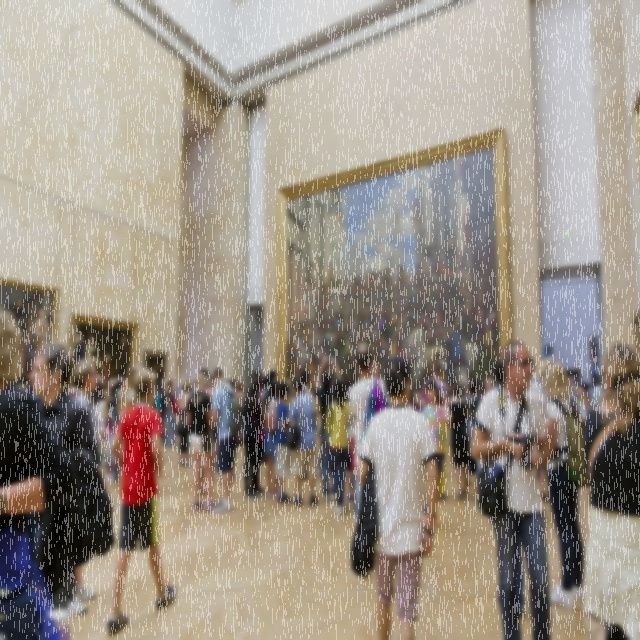pessoa: (286, 152, 498, 372), (0, 302, 82, 640), (350, 352, 443, 640), (469, 339, 554, 639), (104, 360, 182, 640), (576, 338, 640, 639), (28, 342, 104, 570), (534, 352, 592, 614), (65, 356, 106, 614), (347, 344, 390, 524), (516, 380, 545, 620), (208, 366, 244, 516), (419, 376, 454, 528), (184, 370, 220, 513), (314, 353, 344, 505), (286, 374, 320, 508), (323, 376, 352, 517), (8, 288, 52, 380), (116, 363, 140, 507), (448, 381, 476, 502), (96, 357, 122, 482), (241, 374, 266, 502), (462, 372, 493, 473), (570, 366, 603, 446), (274, 378, 294, 506), (197, 366, 214, 496), (264, 378, 280, 500), (319, 366, 335, 473), (344, 386, 358, 502), (420, 359, 450, 409), (178, 377, 194, 467), (349, 422, 362, 525), (70, 326, 112, 356), (300, 369, 318, 432), (165, 378, 178, 449), (158, 382, 170, 449), (261, 368, 277, 408), (160, 378, 170, 423), (492, 361, 508, 388), (406, 384, 419, 412), (260, 374, 272, 402), (236, 380, 245, 414), (230, 376, 238, 400)
